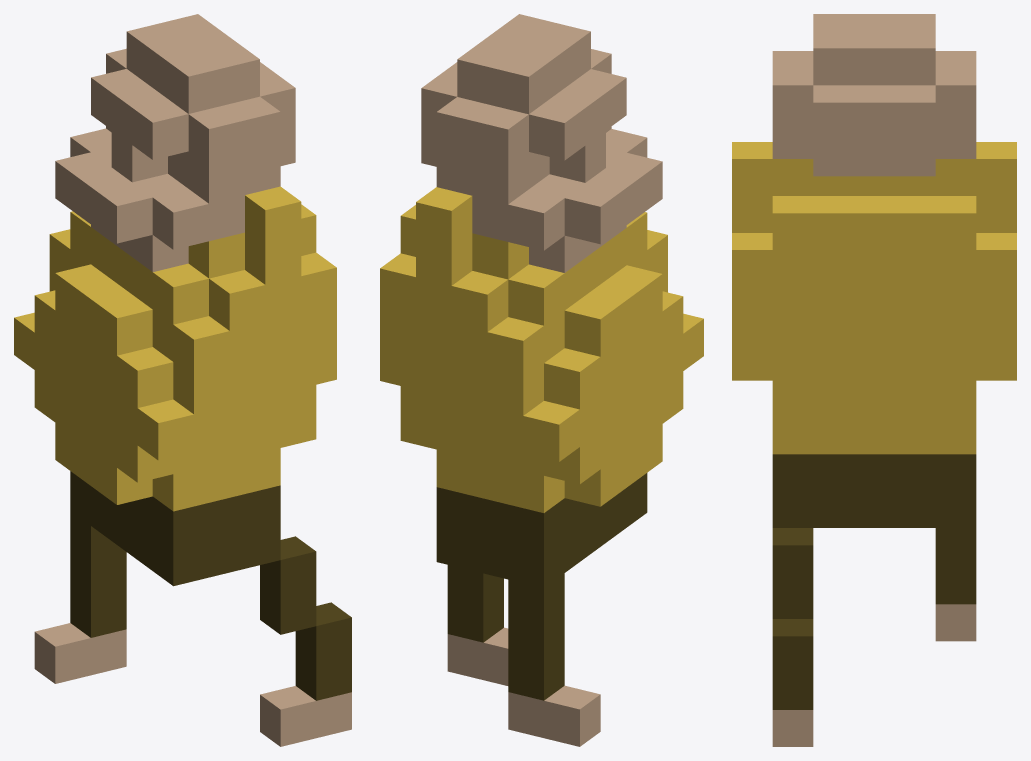
File: orc-2-torso_walk.obj
3 views of the same model, side by side, from view 1: azimuth 30°, elevation 25°; view 2: azimuth 150°, elevation 25°; view 3: azimuth 270°, elevation 25° (orthographic).
Visible parts, largest first — view 1: torso_walk; view 2: torso_walk; view 3: torso_walk.
Part boxes in pixels (x1,y1,x2,y2): torso_walk: (14,14,351,746); torso_walk: (380,14,703,746); torso_walk: (732,14,1016,746).
Bounding box in the file's own units: 0.6 × 1.8 × 0.7.
1 material, 1 textured.
